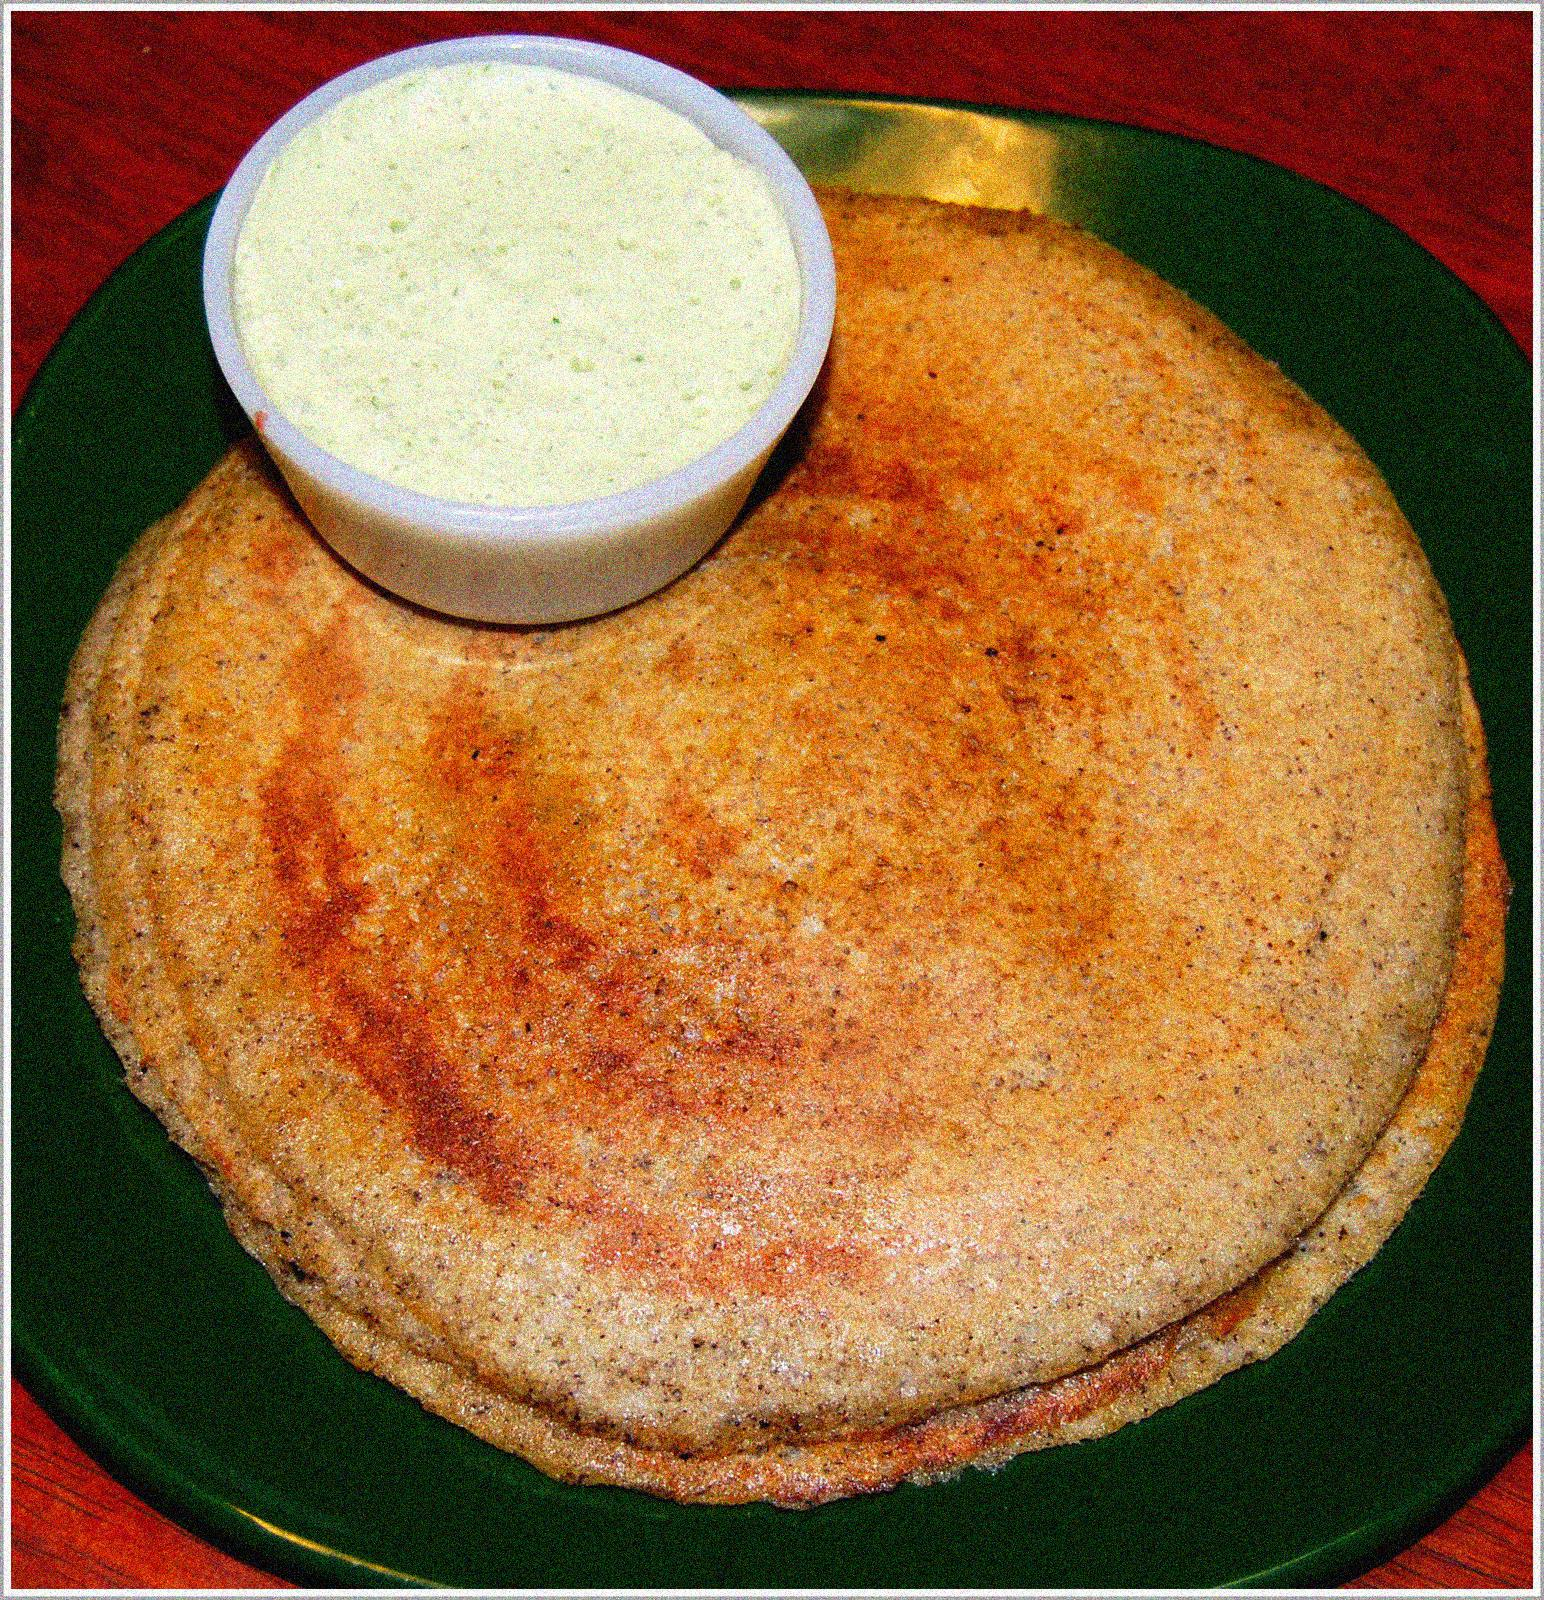dosa: (56, 196, 1535, 1509)
